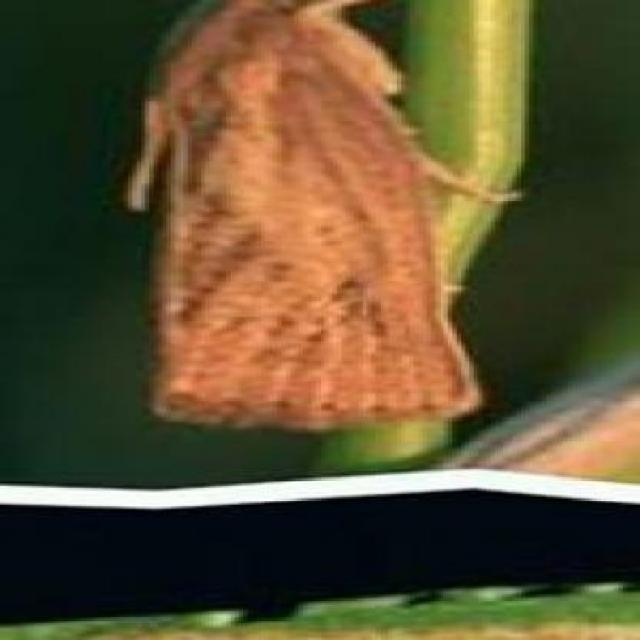stem-borer: (116, 0, 524, 440)
